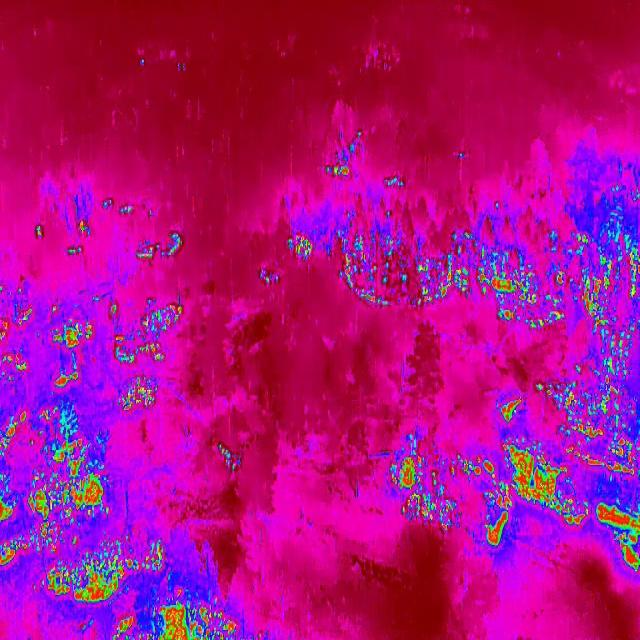fire: (329, 225, 640, 356), (0, 278, 101, 398), (105, 294, 194, 427), (28, 409, 112, 527), (498, 433, 592, 538), (44, 536, 142, 606), (389, 443, 460, 535), (118, 597, 249, 640), (459, 453, 514, 551), (536, 357, 610, 418), (608, 355, 640, 487), (593, 495, 640, 576), (127, 218, 196, 273), (0, 473, 31, 579), (32, 524, 84, 560), (212, 436, 249, 482), (555, 418, 609, 446), (1, 408, 32, 448), (99, 194, 138, 218), (322, 154, 357, 180), (498, 394, 524, 427), (144, 538, 164, 574), (582, 450, 608, 474), (258, 266, 283, 288), (290, 238, 312, 262), (384, 174, 406, 190), (76, 220, 94, 239), (31, 220, 47, 241), (65, 245, 84, 260), (173, 585, 188, 600)
